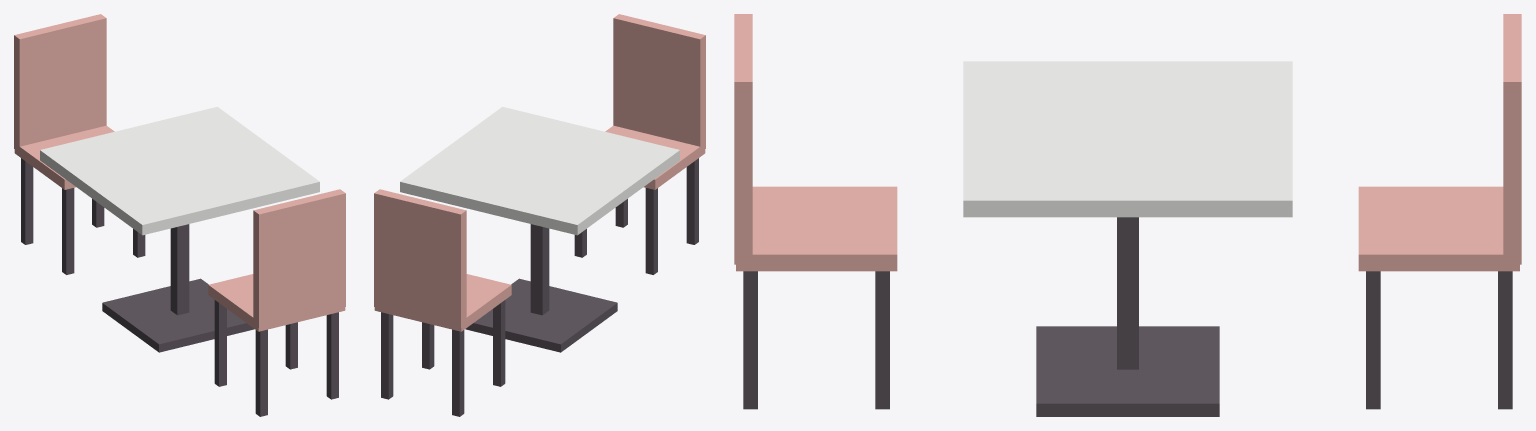
Rendered from Prop_CafeSet.fbx.
3 renders of one model, left to right at view 1: azimuth 30°, elevation 25°; view 2: azimuth 150°, elevation 25°; view 3: azimuth 270°, elevation 25°, orthographic. The views are drawn at different scales.
Visible parts, largest first — view 1: Prop_CafeSet; view 2: Prop_CafeSet; view 3: Prop_CafeSet.
Boxes of the visible parts, <box> form: Prop_CafeSet: <box>14,14,345,416</box>; Prop_CafeSet: <box>374,14,705,416</box>; Prop_CafeSet: <box>734,14,1521,416</box>.
Size of the model in its own units: 0.9 by 0.995 by 2.15.
